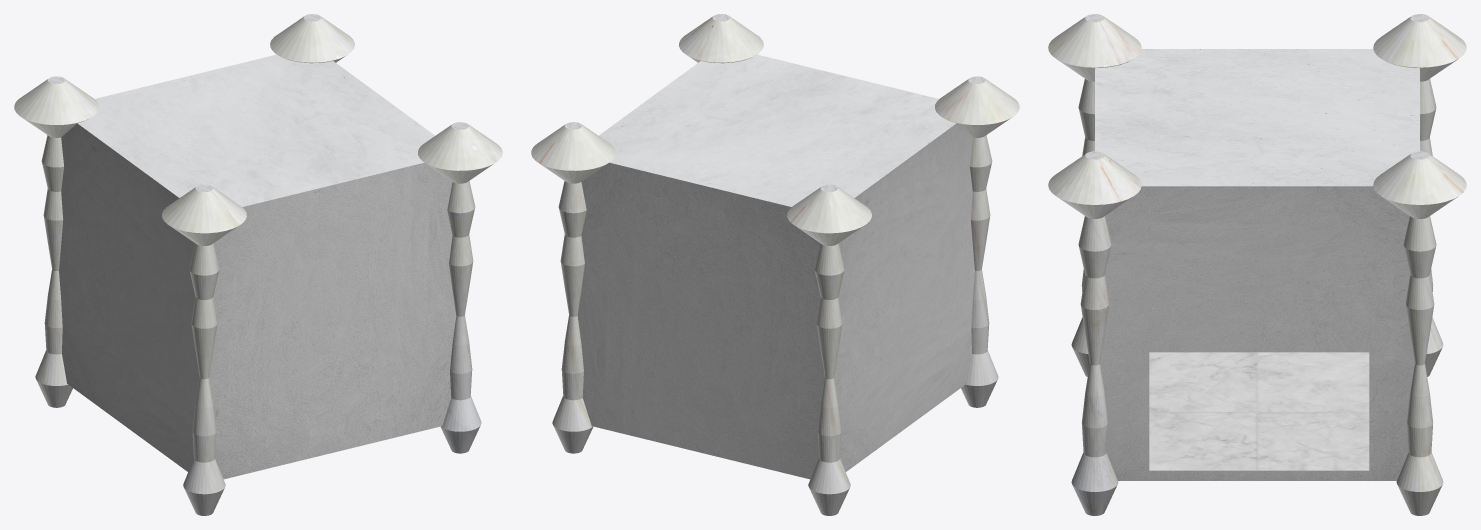
Rendered from Lobby Room.gltf.
3 renders of one model, left to right at view 1: azimuth 30°, elevation 25°; view 2: azimuth 150°, elevation 25°; view 3: azimuth 270°, elevation 25°, orthographic. The views are drawn at different scales.
Visible parts, largest first — view 1: Plane.003, Plane.004, Plane.005, Cylinder, Cylinder.001, Cylinder.003, Cylinder.002; view 2: Plane.002, Plane.004, Plane.005, Cylinder.003, Cylinder.002, Cylinder, Cylinder.001; view 3: Plane.001, Plane.005, Plane, Cylinder.001, Cylinder.002, Cylinder, Cylinder.003.
Boxes of the visible parts, x1,y1,x2,y2 form: Plane.003: (209,162,456,479); Plane.004: (59,123,199,471); Plane.005: (78,54,434,206); Cylinder: (162,184,246,515); Cylinder.001: (418,122,502,453); Cylinder.003: (14,76,98,407); Cylinder.002: (270,14,354,63); Plane.002: (577,162,824,479); Plane.004: (834,123,974,471); Plane.005: (599,54,955,206); Cylinder.003: (787,184,871,515); Cylinder.002: (531,122,615,453); Cylinder: (935,76,1019,407); Cylinder.001: (679,14,763,63); Plane.001: (1100,186,1414,480); Plane.005: (1095,49,1419,186); Plane: (1149,352,1369,470); Cylinder.001: (1048,151,1141,515); Cylinder.002: (1373,151,1466,515); Cylinder: (1048,14,1141,376); Cylinder.003: (1373,14,1466,376).
Size of the model in its own units: 51.53 by 48.38 by 51.53.
Materials: 4 (4 with a texture image).
